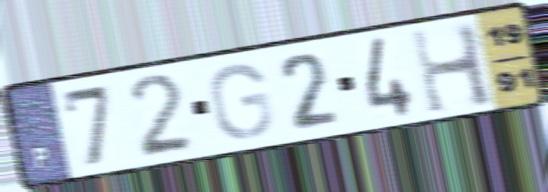2: (125, 71, 198, 161), (278, 51, 343, 132)
4: (363, 33, 418, 121)
7: (58, 85, 117, 169)
G: (206, 60, 277, 142)
H: (406, 19, 499, 118)
